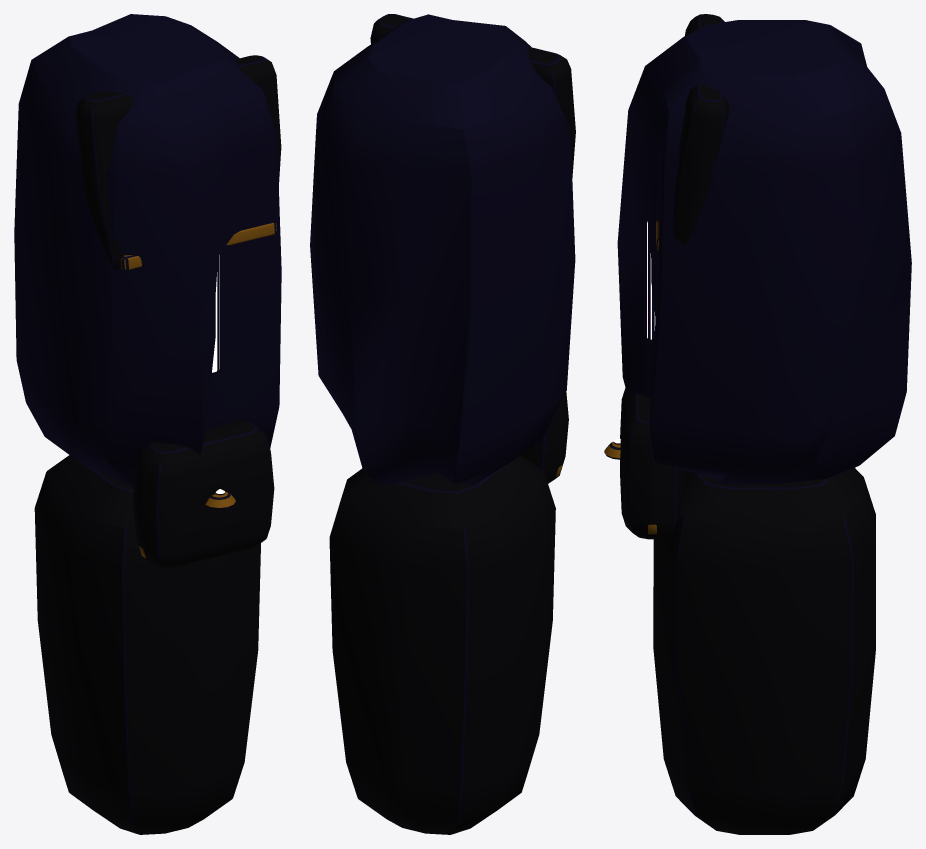
The model's file is Veu_CalcaR.fbx.
The picture shows the model from 3 angles, left to right: view 1: azimuth 30°, elevation 25°; view 2: azimuth 150°, elevation 25°; view 3: azimuth 270°, elevation 25°; orthographic projection.
Visible parts, largest first — view 1: Piece; view 2: Piece; view 3: Piece.
Boxes of the visible parts, bbox=[...] form: Piece: bbox=[14, 14, 281, 834]; Piece: bbox=[310, 14, 575, 834]; Piece: bbox=[604, 14, 911, 834].
Bounding box in the file's own units: 0.222 × 0.7561 × 0.2743.
